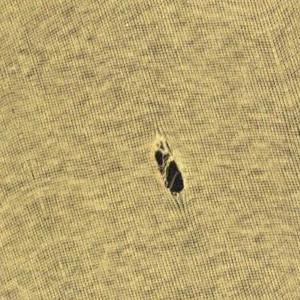hole: (149, 135, 190, 202)
